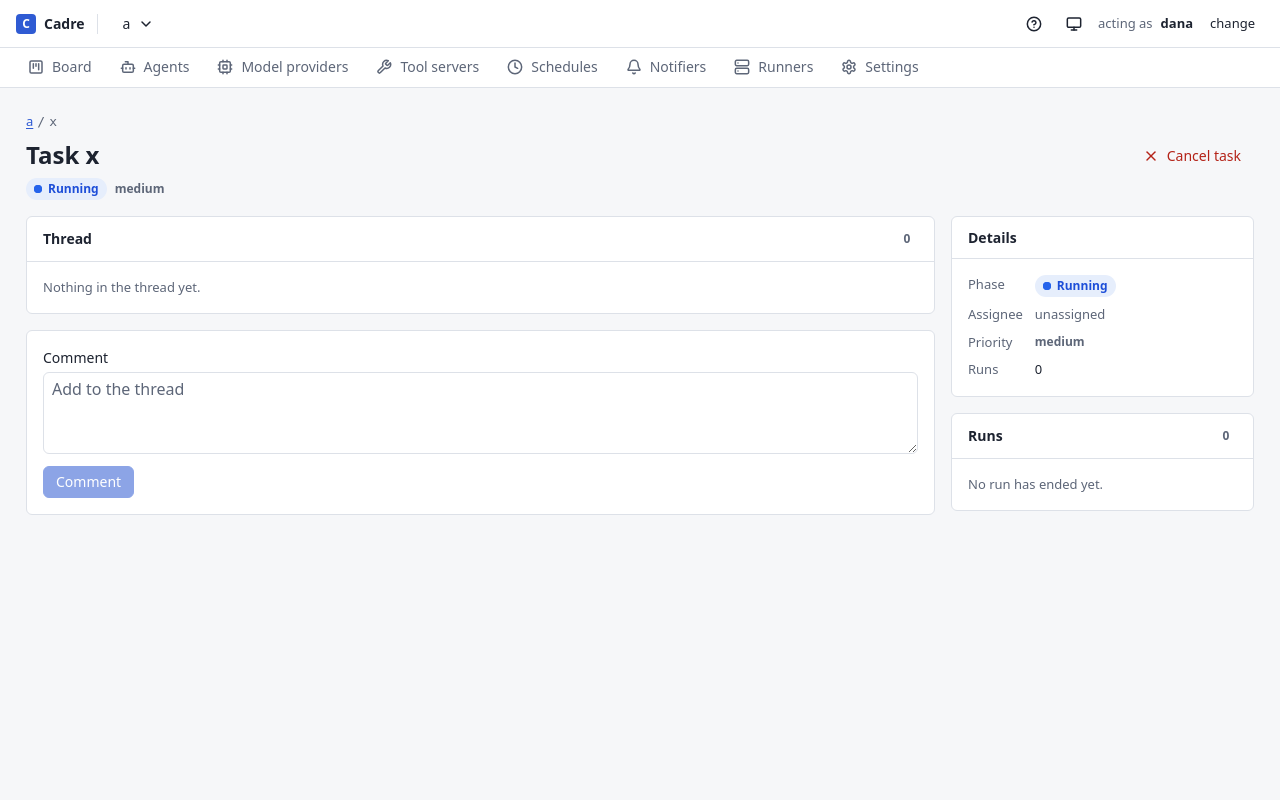
TaskPage › reads the task again at once when an action meets a conflict
Expected: the text "Task x" is shown, [26, 138, 99, 170]
In the text box labelled "Comment": [480, 413] box [43, 372, 918, 454], type "hello"
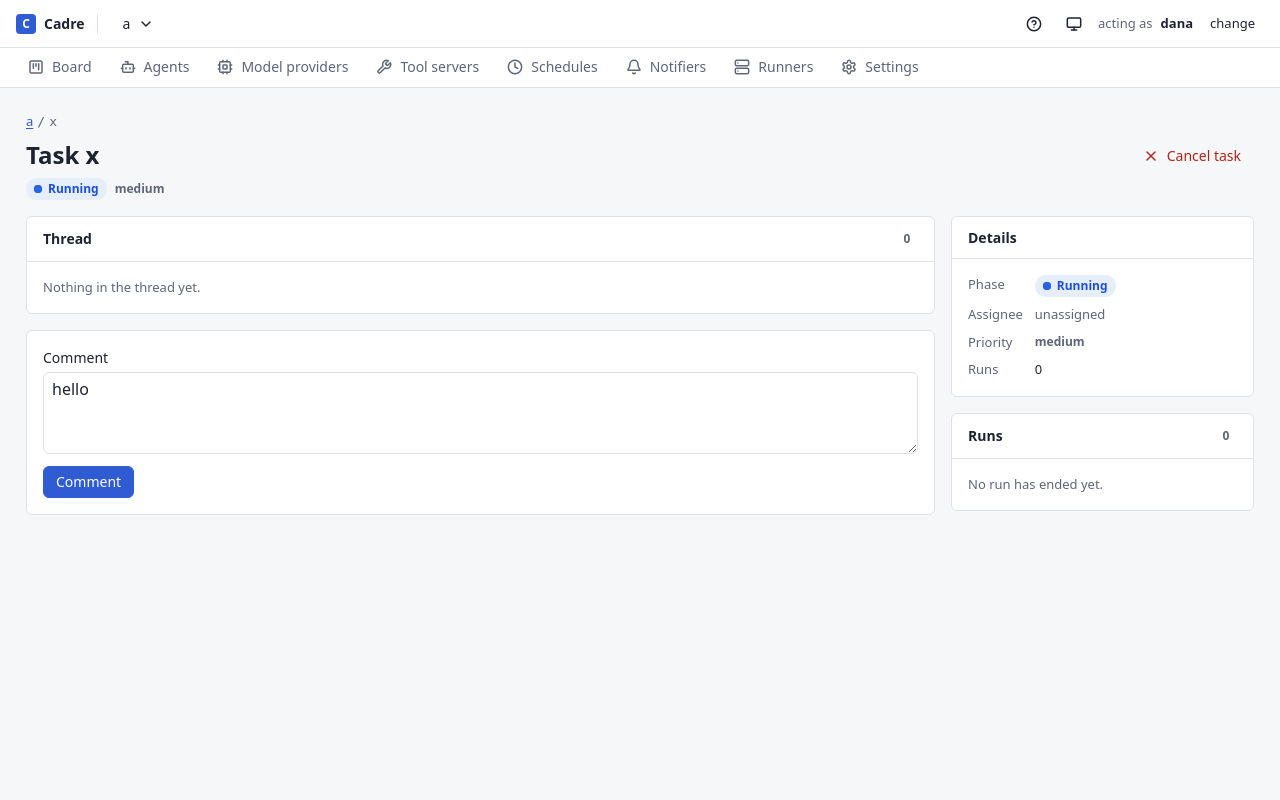
Click the button "Comment": [89, 482] box [43, 466, 134, 498]
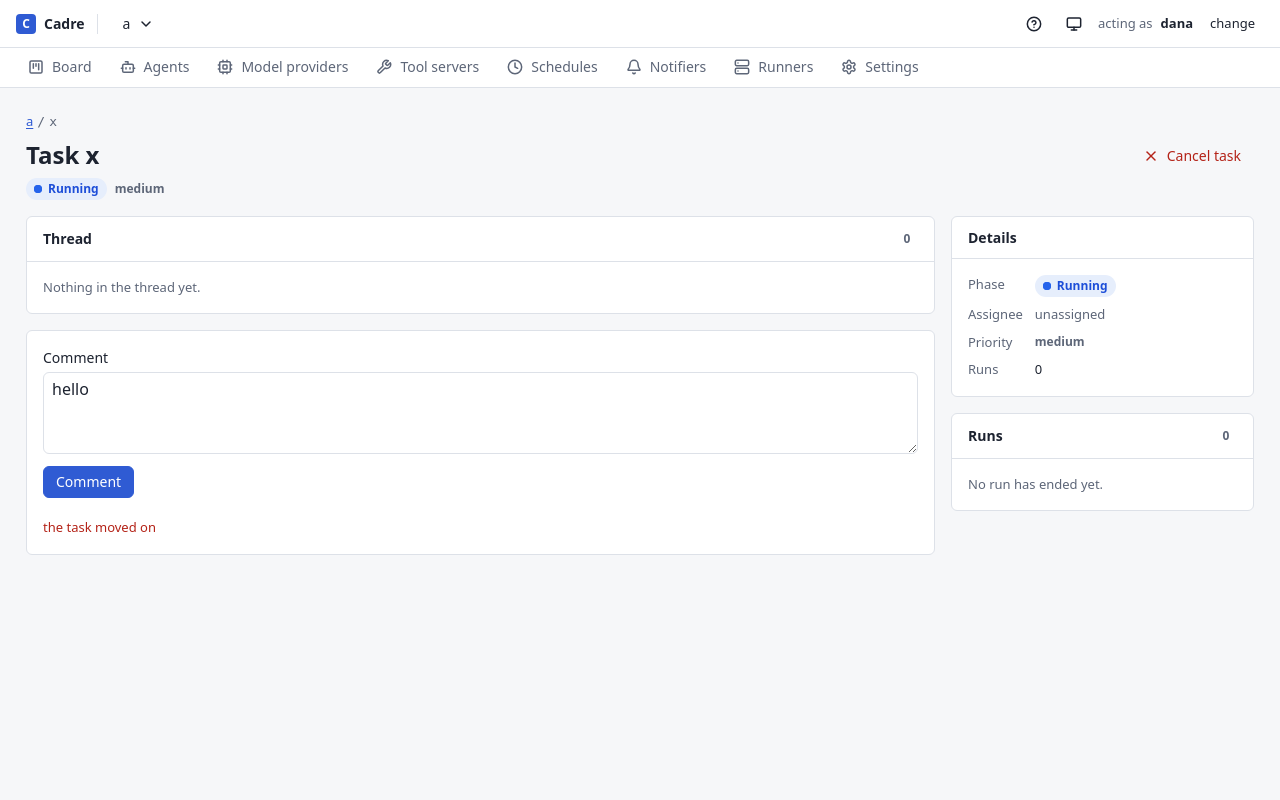
Result: the message reads "the task moved on" at [43, 518, 156, 536]
